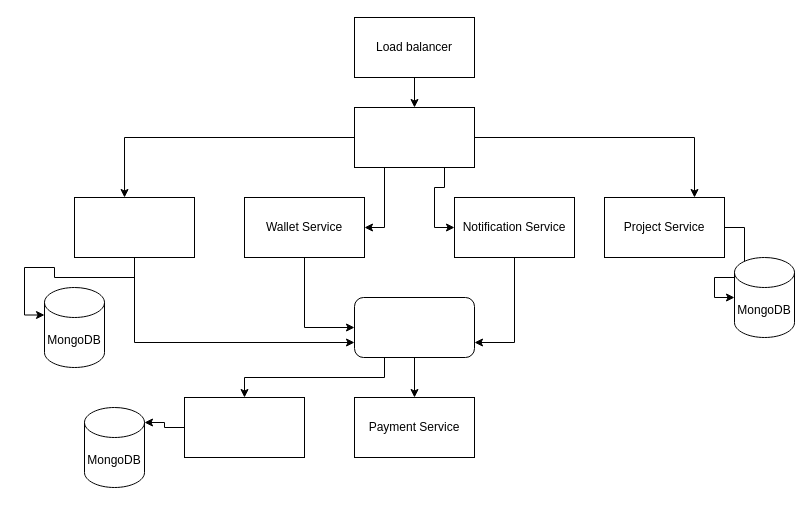
The diagram is 812 pixels wide and 505 high, and some of its shapes have lost their labels. Each missing label, with the centre of its shape:
API Gateway: point (414, 137)
Message Broker: point (414, 327)
Transaction Service: point (244, 427)
User Service: point (134, 227)
